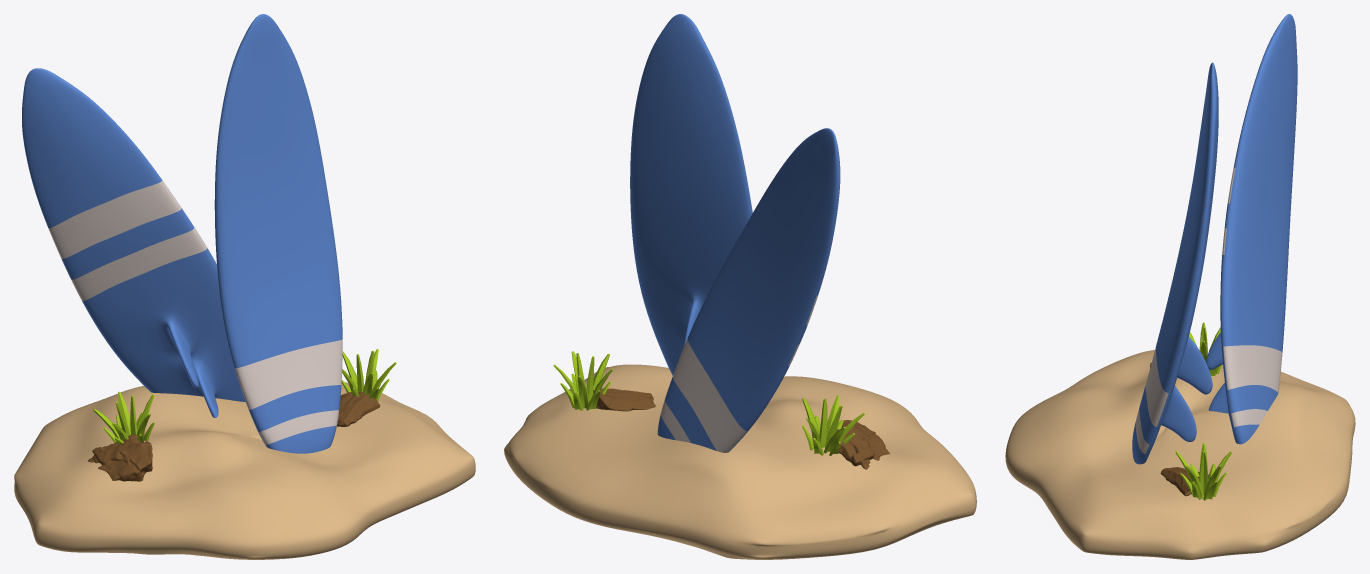
Rendered from chonghlang.glb.
3 renders of one model, left to right at view 1: azimuth 30°, elevation 25°; view 2: azimuth 150°, elevation 25°; view 3: azimuth 270°, elevation 25°, orthographic. The views are drawn at different scales.
Visible parts, largest first — view 1: sand, SurfBoard 2, SurfBoard 1, stone 2, grass 1, grass 2, stone 1; view 2: sand, SurfBoard 1, SurfBoard 2, grass 1, grass 2, stone 2, stone 1; view 3: sand, SurfBoard 1, SurfBoard 2, grass 2, stone 1.
Part boxes in pixels (bbox=[...]): sand: bbox=[14, 382, 475, 559]; SurfBoard 2: bbox=[214, 14, 342, 453]; SurfBoard 1: bbox=[22, 68, 245, 417]; stone 2: bbox=[88, 434, 152, 481]; grass 1: bbox=[93, 391, 154, 444]; grass 2: bbox=[341, 349, 396, 401]; stone 1: bbox=[337, 392, 380, 426]; sand: bbox=[504, 364, 976, 559]; SurfBoard 1: bbox=[657, 128, 840, 452]; SurfBoard 2: bbox=[630, 14, 752, 375]; grass 1: bbox=[801, 395, 865, 455]; grass 2: bbox=[553, 351, 613, 410]; stone 2: bbox=[836, 420, 889, 469]; stone 1: bbox=[593, 388, 655, 411]; sand: bbox=[1005, 350, 1355, 559]; SurfBoard 1: bbox=[1206, 14, 1297, 444]; SurfBoard 2: bbox=[1132, 62, 1218, 464]; grass 2: bbox=[1175, 442, 1232, 500]; stone 1: bbox=[1160, 467, 1208, 496].
Bounding box in the file's own units: 11.14 × 11.5 × 8.57.
